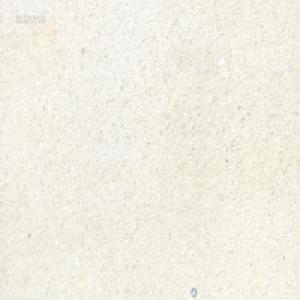Washer: (190, 286, 197, 297)
